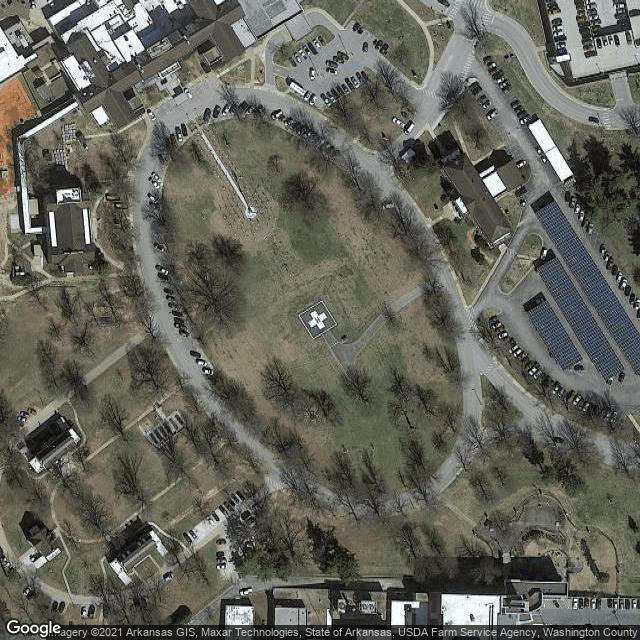Helipad: (296, 296, 339, 339)
